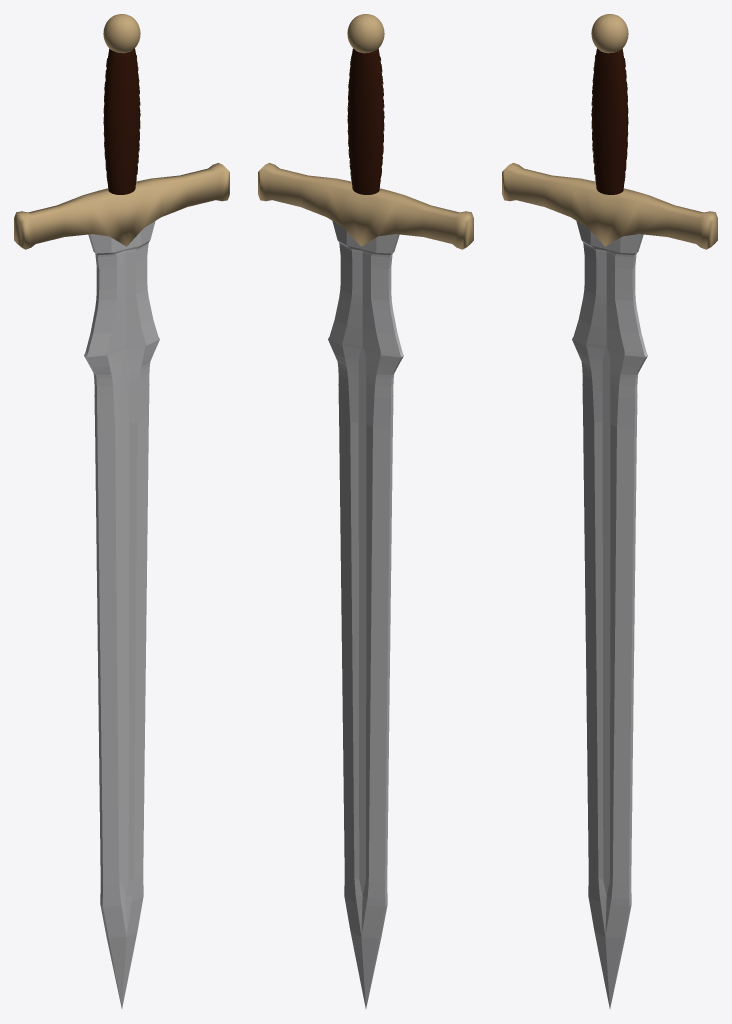
File: VR-Sword.fbx
3 renders of one model, left to right at view 1: azimuth 30°, elevation 25°; view 2: azimuth 150°, elevation 25°; view 3: azimuth 330°, elevation 25°, orthographic.
Visible parts, largest first — view 1: Cube, Cube.001, Cylinder, Sphere; view 2: Cube, Cube.001, Cylinder, Sphere; view 3: Cube, Cube.001, Cylinder, Sphere.
Part boxes in pixels (left/top/right/bottom): Cube: left=84, top=221, right=159, bottom=1008; Cube.001: left=14, top=163, right=229, bottom=249; Cylinder: left=104, top=48, right=139, bottom=194; Sphere: left=103, top=14, right=140, bottom=53; Cube: left=328, top=221, right=403, bottom=1008; Cube.001: left=258, top=163, right=473, bottom=249; Cylinder: left=348, top=48, right=383, bottom=194; Sphere: left=347, top=14, right=384, bottom=53; Cube: left=572, top=221, right=647, bottom=1008; Cube.001: left=502, top=163, right=717, bottom=249; Cylinder: left=592, top=48, right=627, bottom=194; Sphere: left=591, top=14, right=628, bottom=53.
Size of the model in its own units: 137 by 624 by 21.16.
